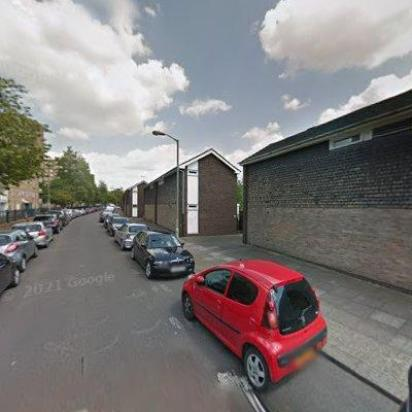stationary-car-onstreet: (180, 257, 328, 393), (128, 227, 196, 282), (0, 229, 38, 270), (7, 221, 54, 249), (0, 250, 24, 296), (114, 222, 150, 250), (32, 212, 62, 232), (105, 216, 129, 238), (47, 209, 68, 228), (100, 210, 116, 224)
